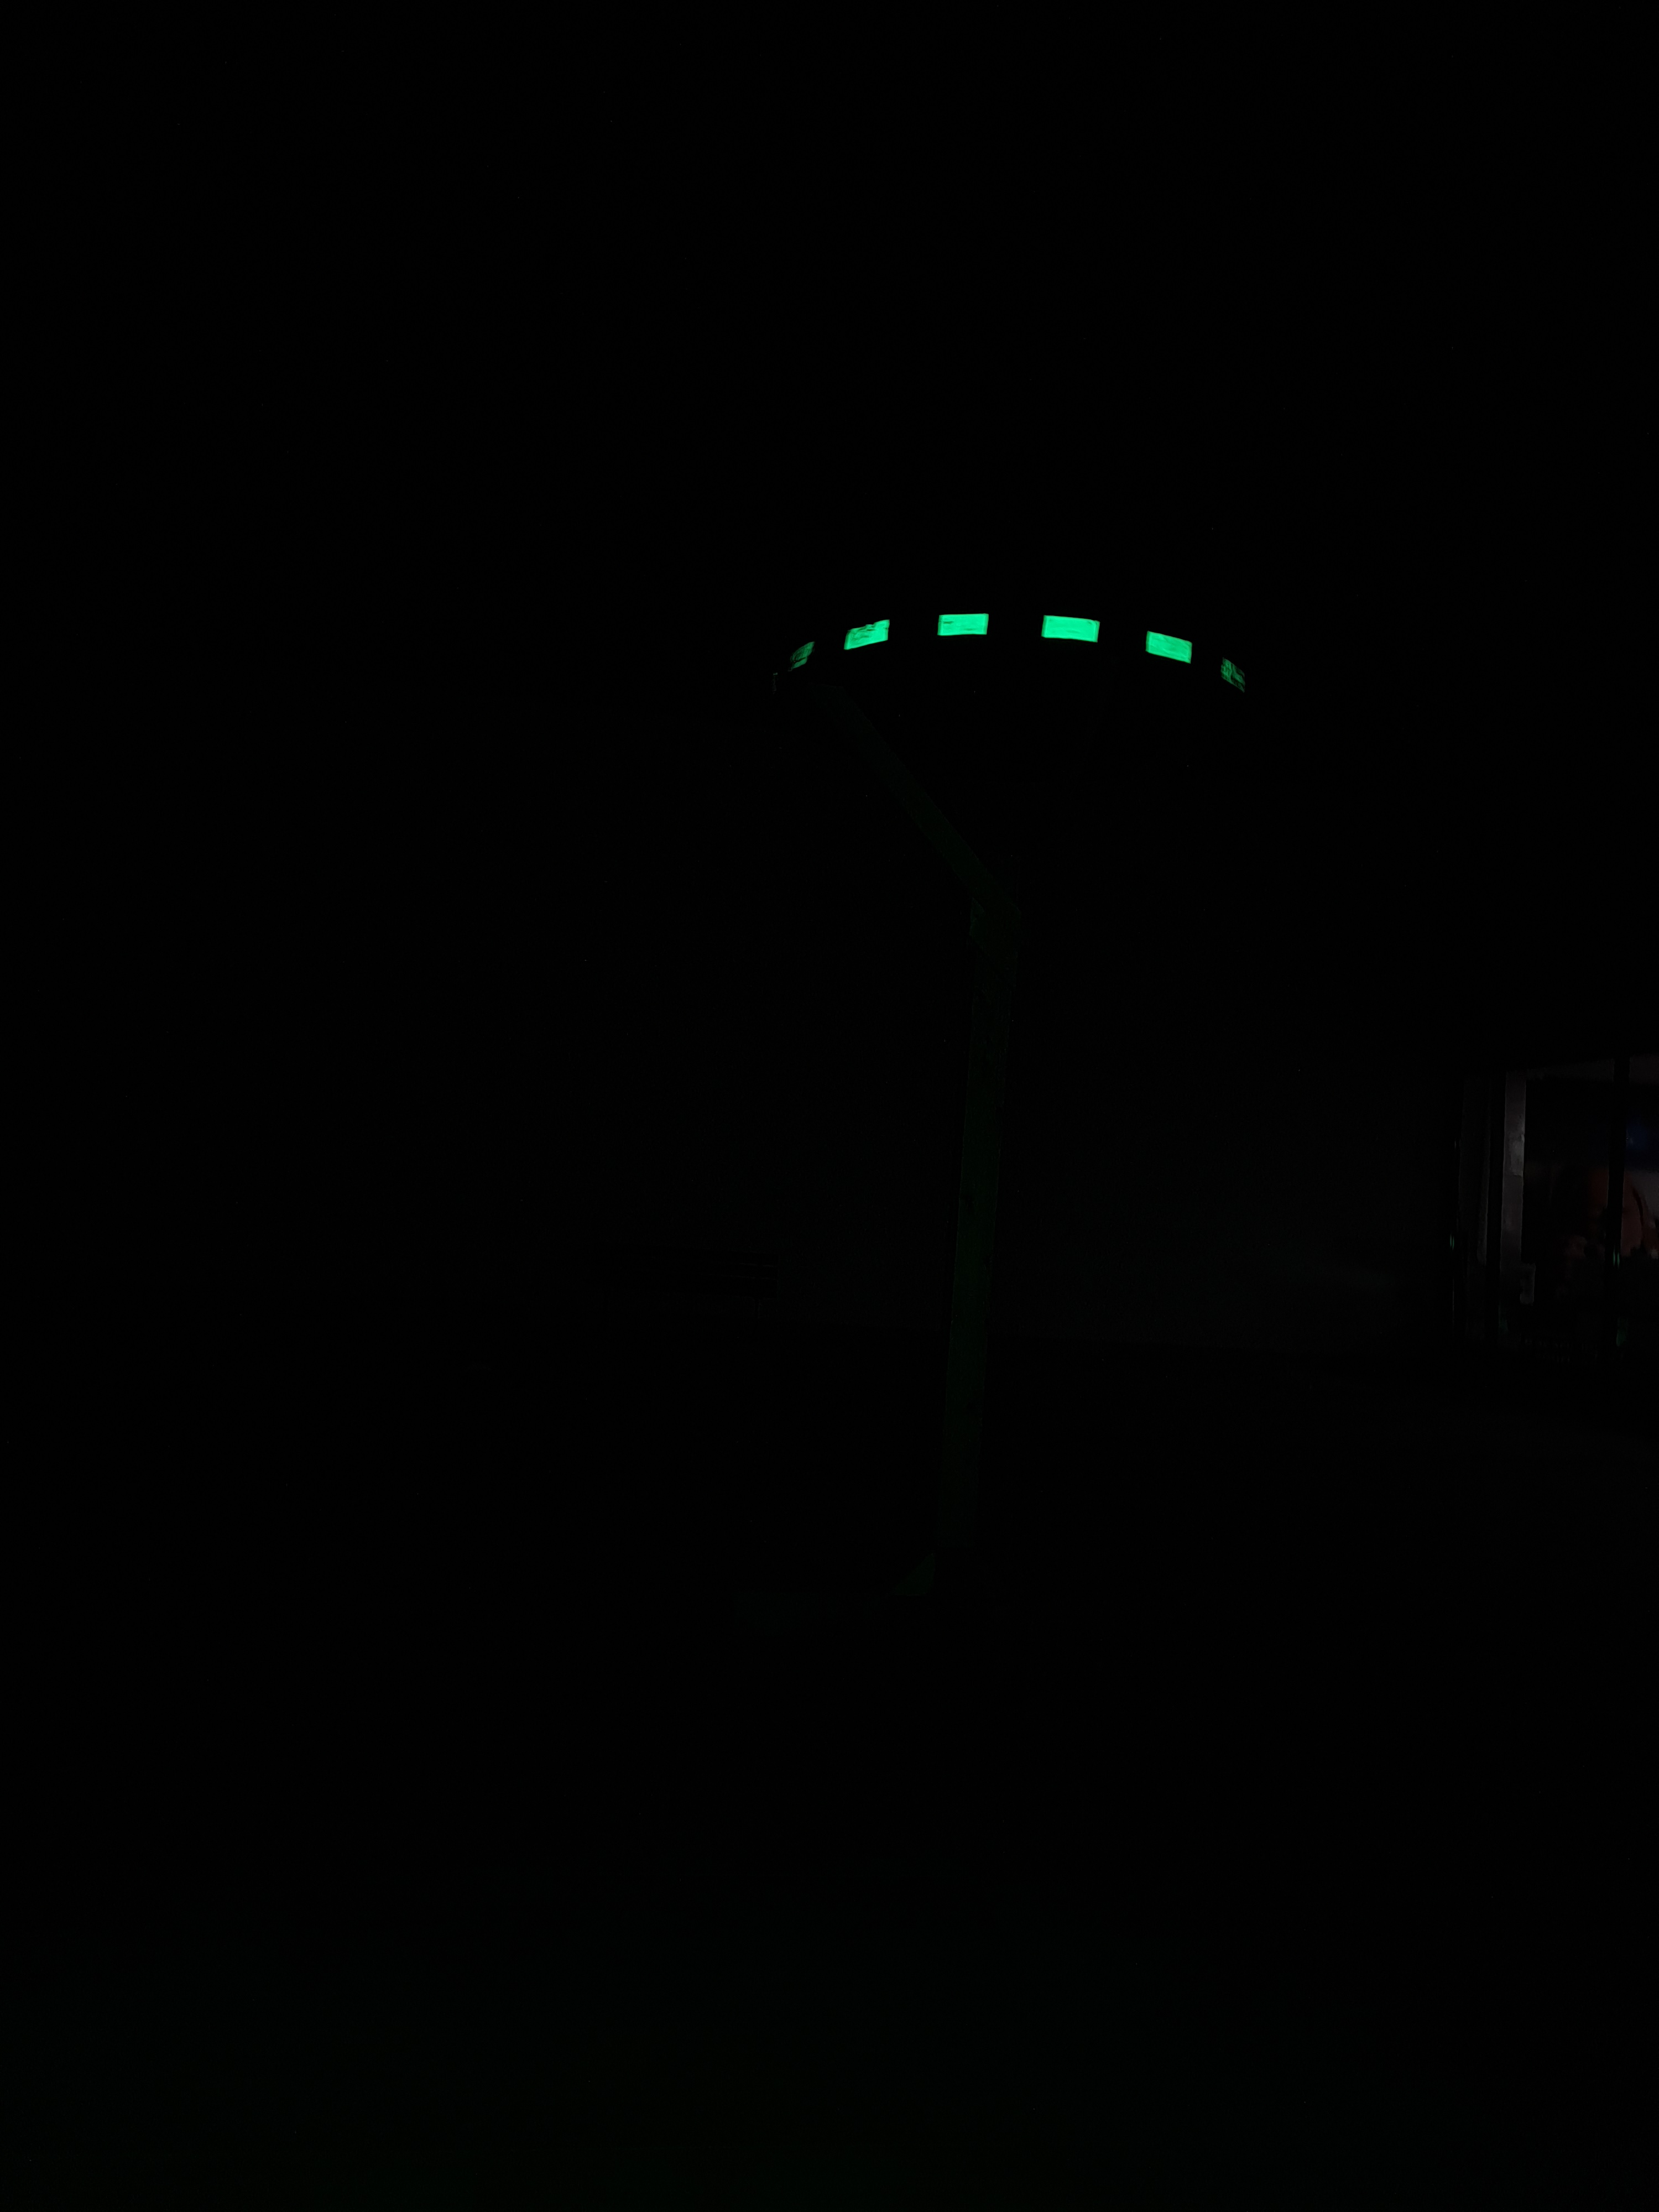hoop: (744, 585, 1276, 719)
